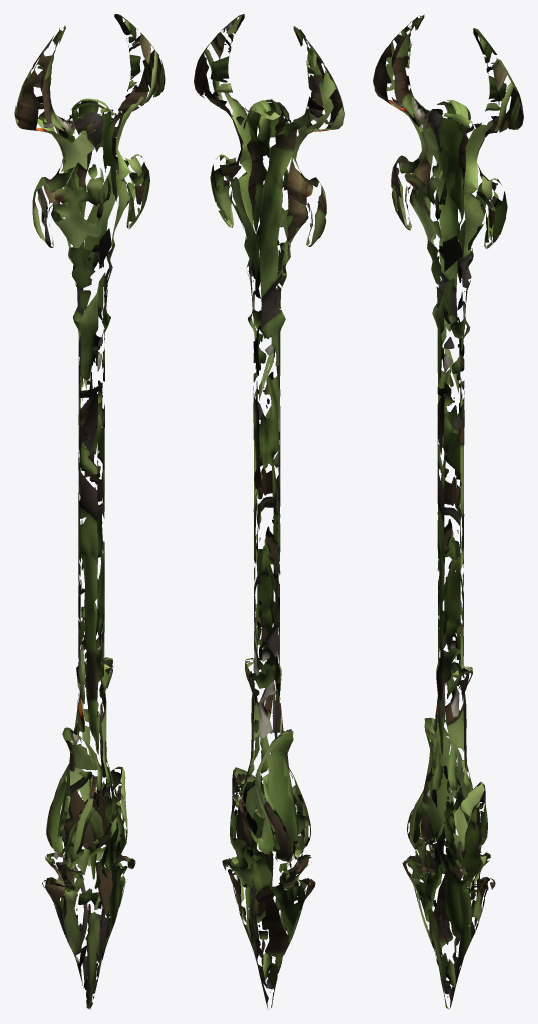
Rendered from viper staff.fbx.
3 views of the same model, side by side, from view 1: azimuth 30°, elevation 25°; view 2: azimuth 150°, elevation 25°; view 3: azimuth 330°, elevation 25° (orthographic).
Parts seen in each view (by area): view 1: Mesh_0; view 2: Mesh_0; view 3: Mesh_0.
Boxes of the visible parts, x1,y1,x2,y2 form: Mesh_0: (14,14,165,1009); Mesh_0: (194,14,344,1009); Mesh_0: (373,14,523,1009).
Bounding box in the file's own units: 15.92 × 100 × 6.33.
